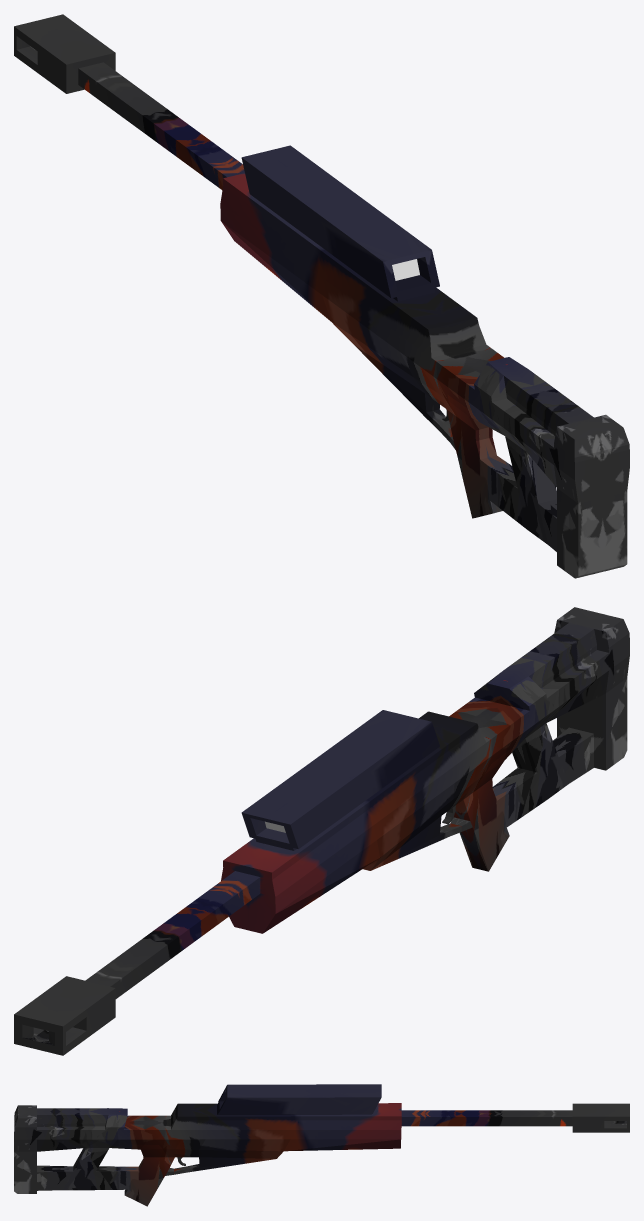
Rendered from sniper.fbx.
The picture shows the model from 3 angles, top to bottom: view 1: azimuth 30°, elevation 25°; view 2: azimuth 150°, elevation 25°; view 3: azimuth 270°, elevation 25°; orthographic projection. The views are drawn at different scales.
Parts seen in each view (by area): view 1: Cube; view 2: Cube; view 3: Cube.
Boxes of the visible parts, box(x1,y1,x2,y2) form: Cube: box(14, 14, 629, 578); Cube: box(14, 607, 629, 1055); Cube: box(14, 1084, 629, 1206).
Size of the model in its own units: 27.58 by 99.81 by 490.
2 materials, 1 textured.
